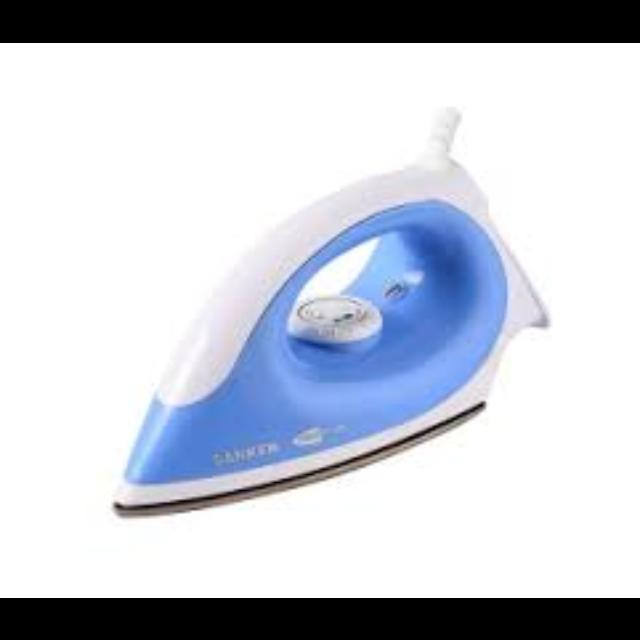Clothes-Iron: (110, 155, 524, 490)
